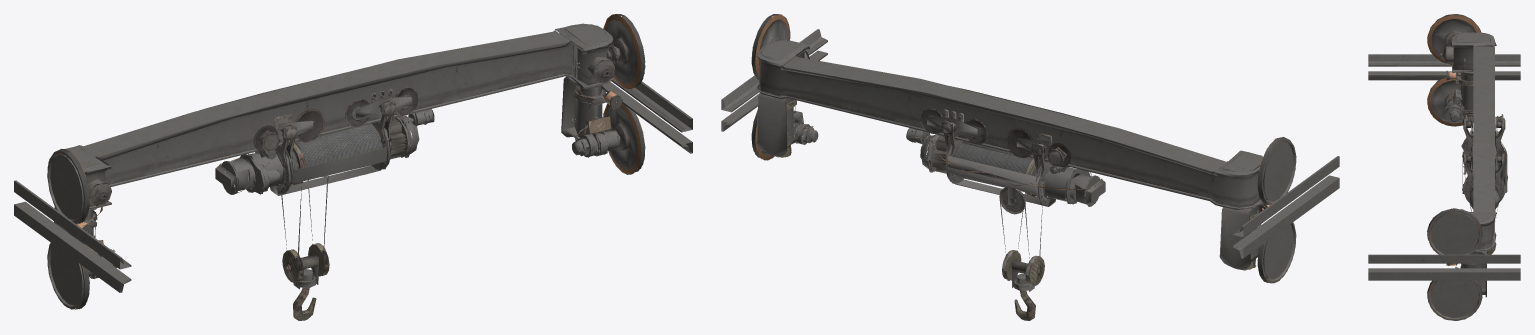
File: overhead_crane.glb
3 views of the same model, side by side, from view 1: azimuth 30°, elevation 25°; view 2: azimuth 150°, elevation 25°; view 3: azimuth 270°, elevation 25° (orthographic). The views are drawn at different scales.
Visible parts, largest first — view 1: overhead_crane; view 2: overhead_crane; view 3: overhead_crane.
Boxes of the visible parts, x1,y1,x2,y2 form: overhead_crane: (14, 14, 692, 320); overhead_crane: (721, 14, 1339, 320); overhead_crane: (1368, 14, 1520, 320).
Bounding box in the file's own units: 12.49 × 5.14 × 4.
2 materials, 2 textured.
